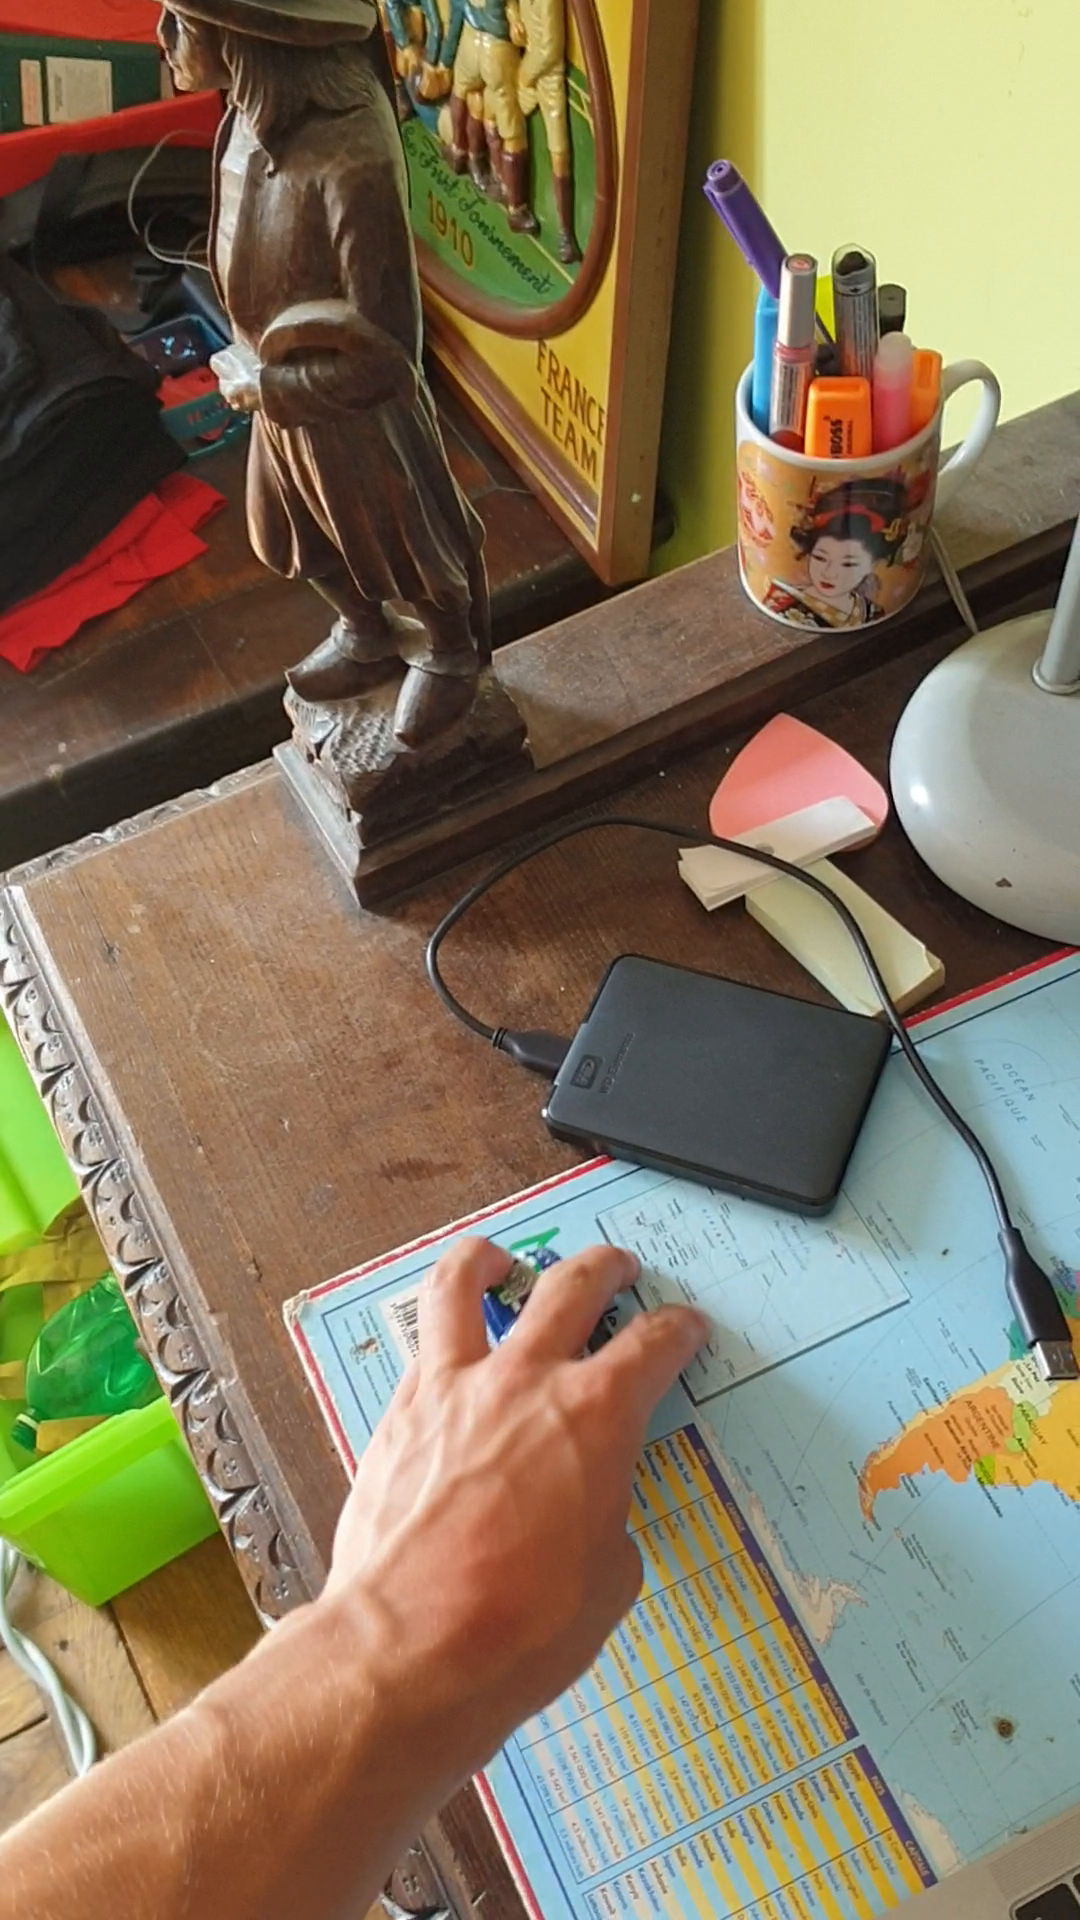cars: (472, 1242, 624, 1371)
